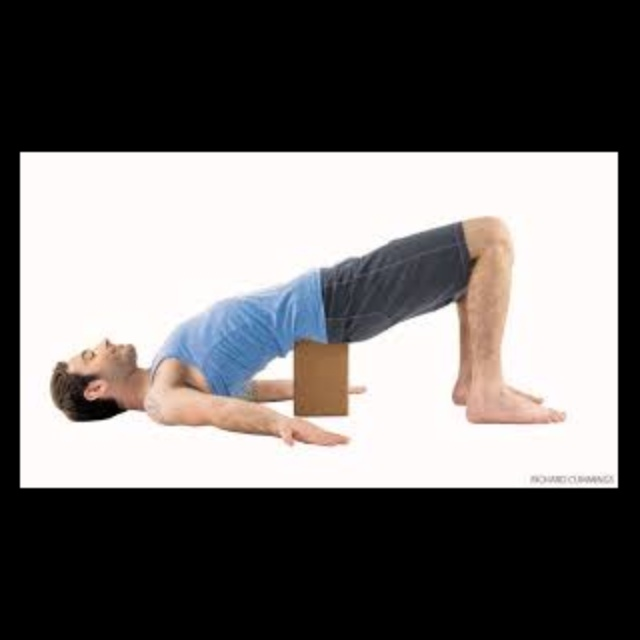Bridge_Pose: (41, 211, 581, 453)
